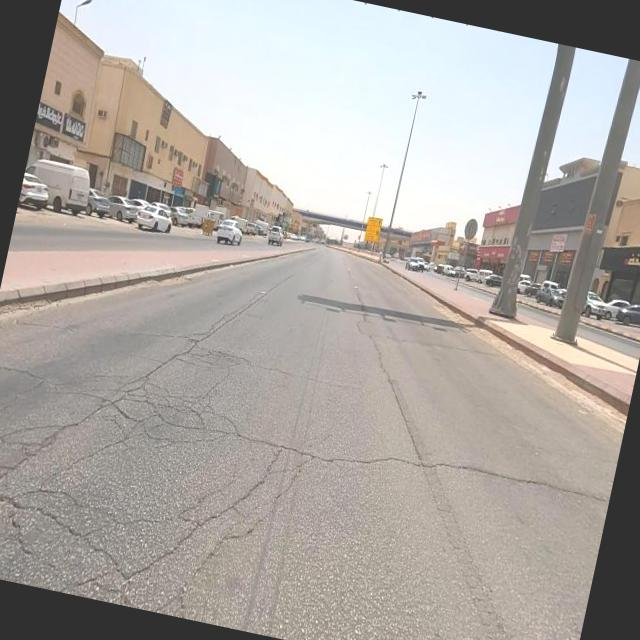debris: (82, 100, 181, 202), (165, 149, 232, 229)
